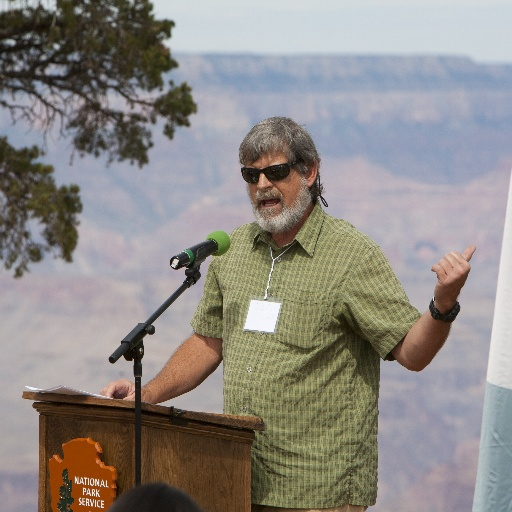hand: (420, 243, 487, 321), (96, 376, 154, 403)
